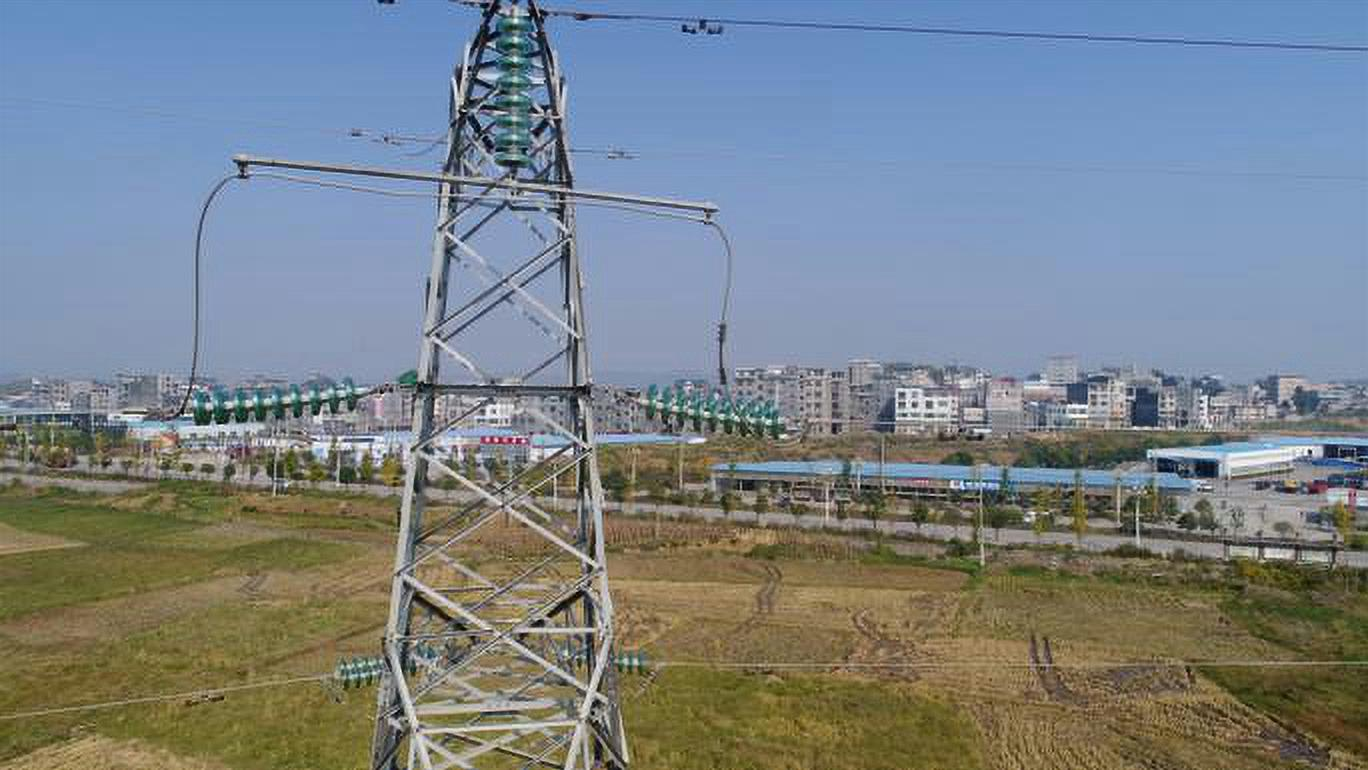insulator: (641, 379, 789, 445), (188, 374, 359, 429), (491, 15, 536, 170), (332, 641, 439, 694), (559, 639, 660, 679)
